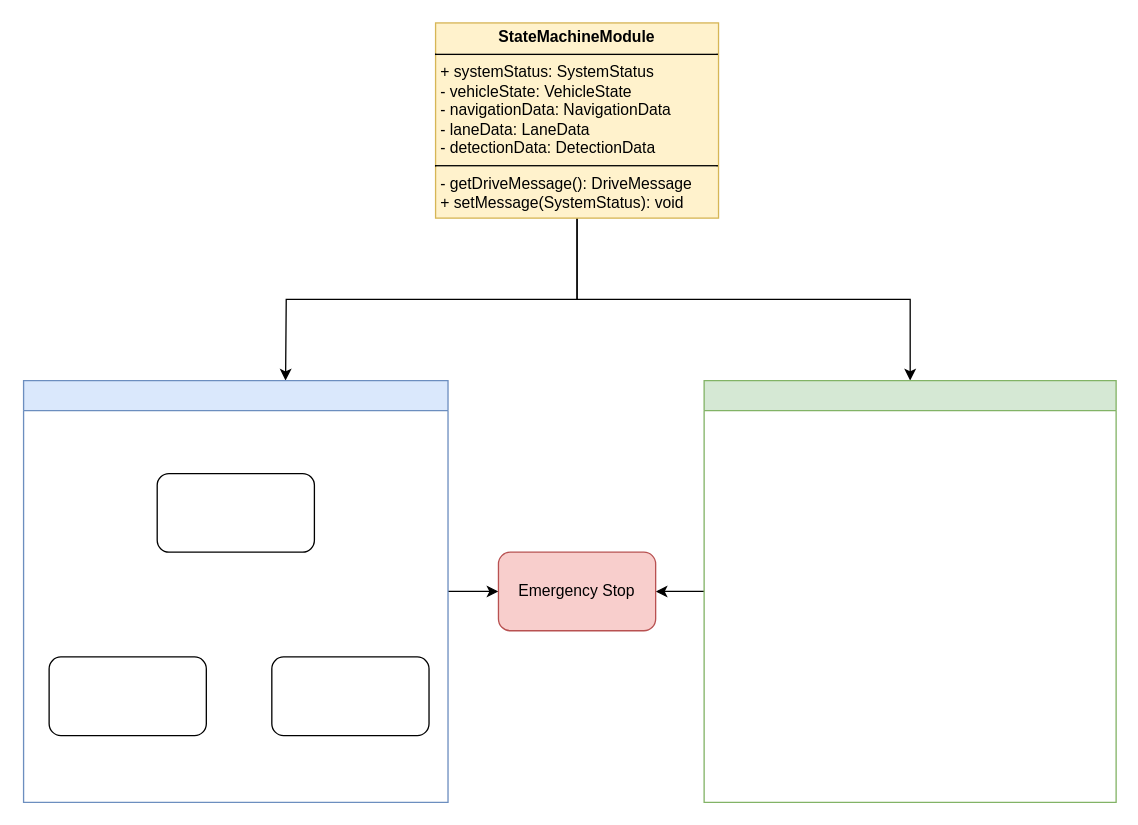
Image size: 1138x825. Some labels were removed from this diagram. Each missing label, with the box of its shape:
Lane Machine: (703, 379, 1116, 802)
Speed Machine: (22, 379, 448, 802)
